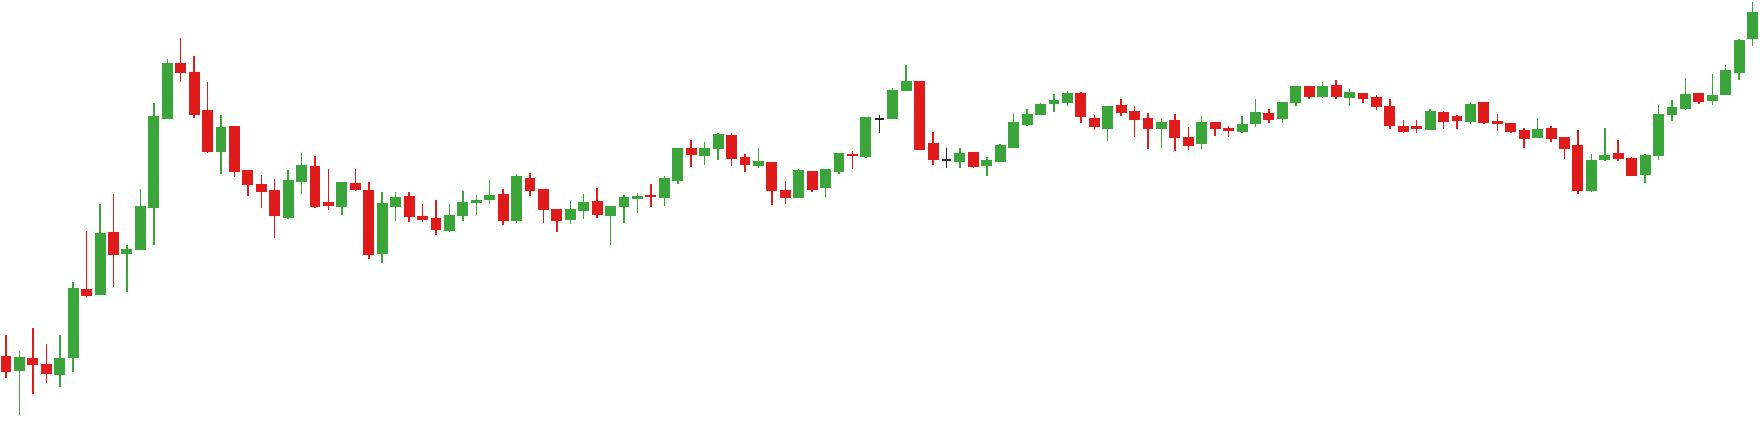buy: (268, 173, 389, 270)
